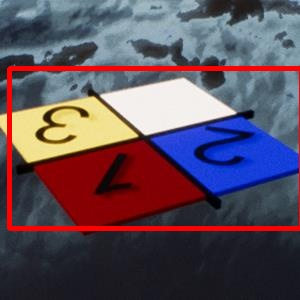nfpa: (9, 68, 300, 228)
